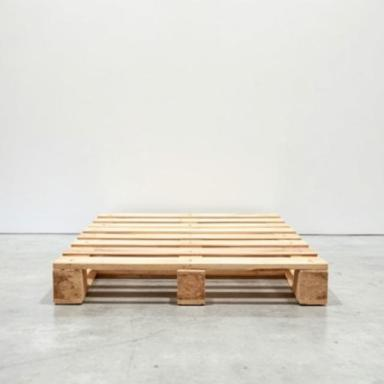pallet: (52, 213, 329, 306)
